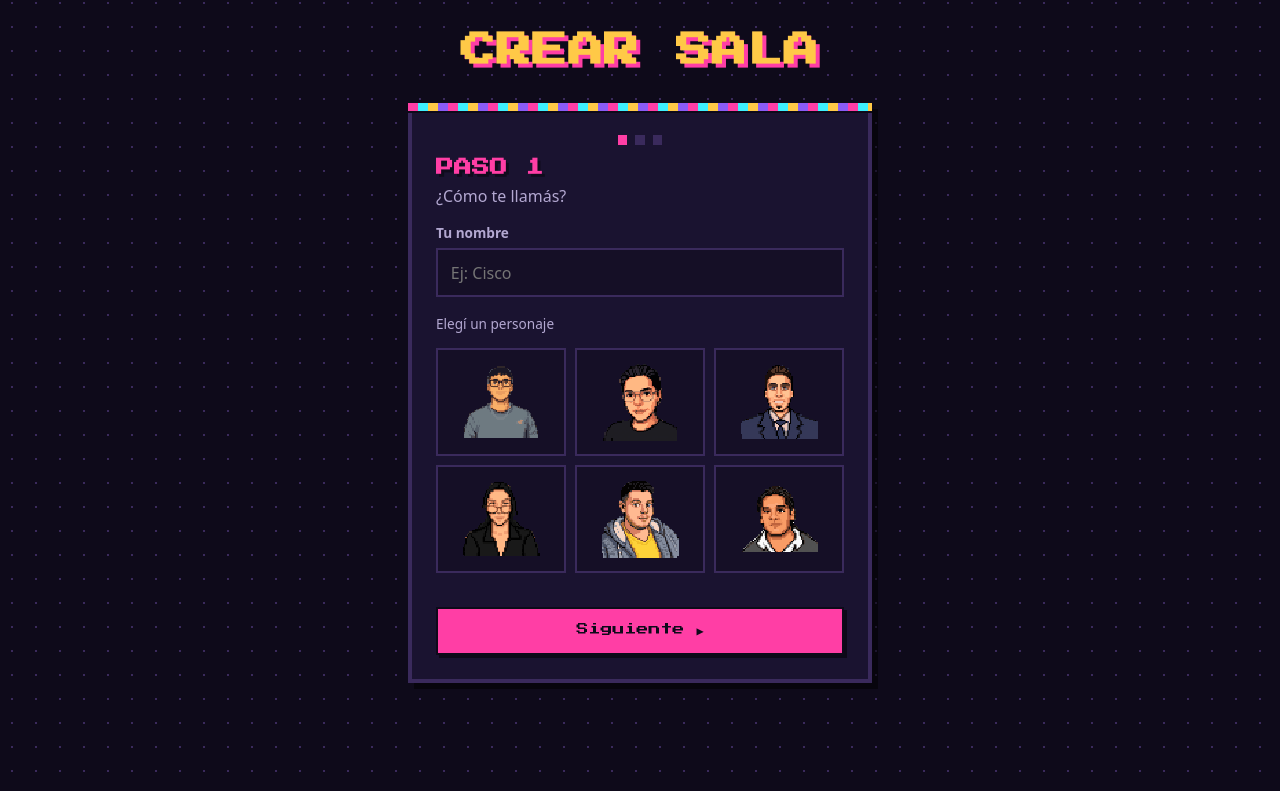
it: CreateRoomPage — formulario no envía vacío › mueve el slider y refleja el valor elegido en pantalla
In the field labelled "Tu nombre": (640, 273) [436,248,844,297], type "Cisco"
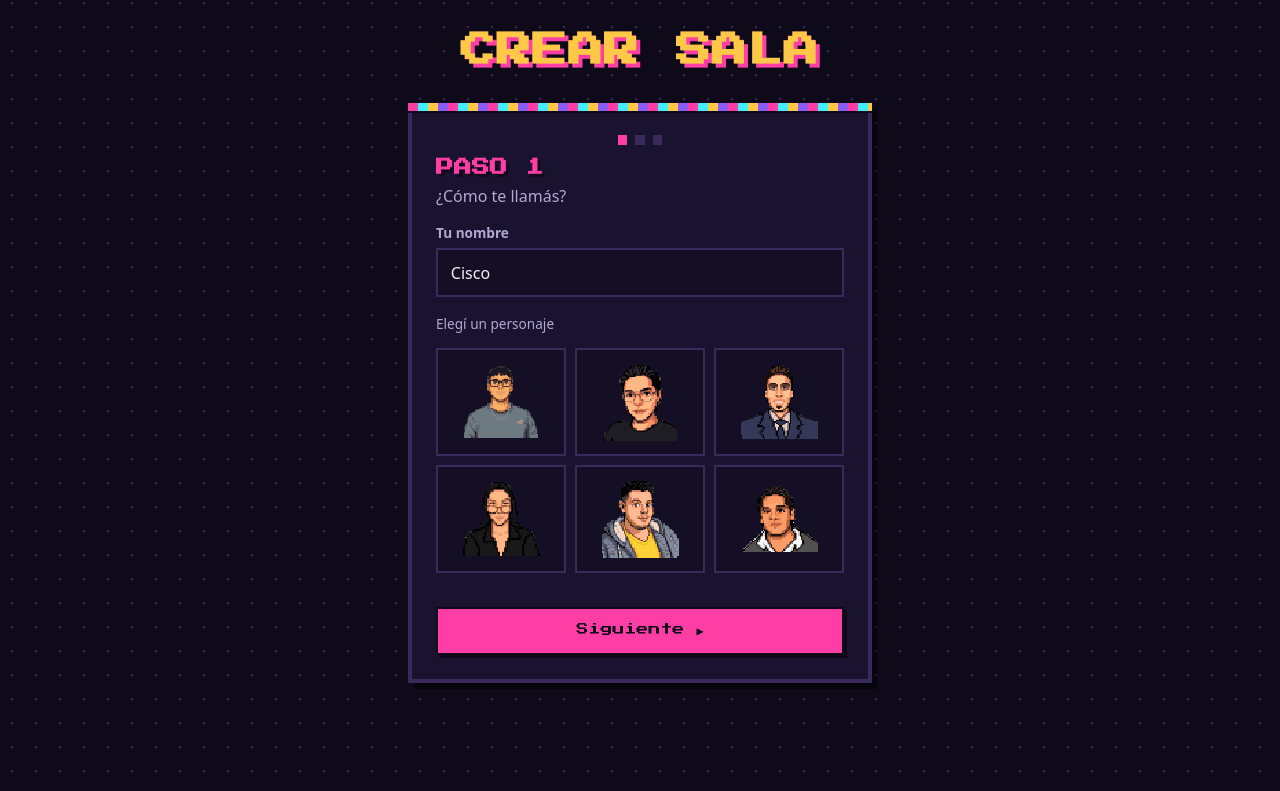
Click the button named "Cisco": (501, 402) [436,348,566,456]
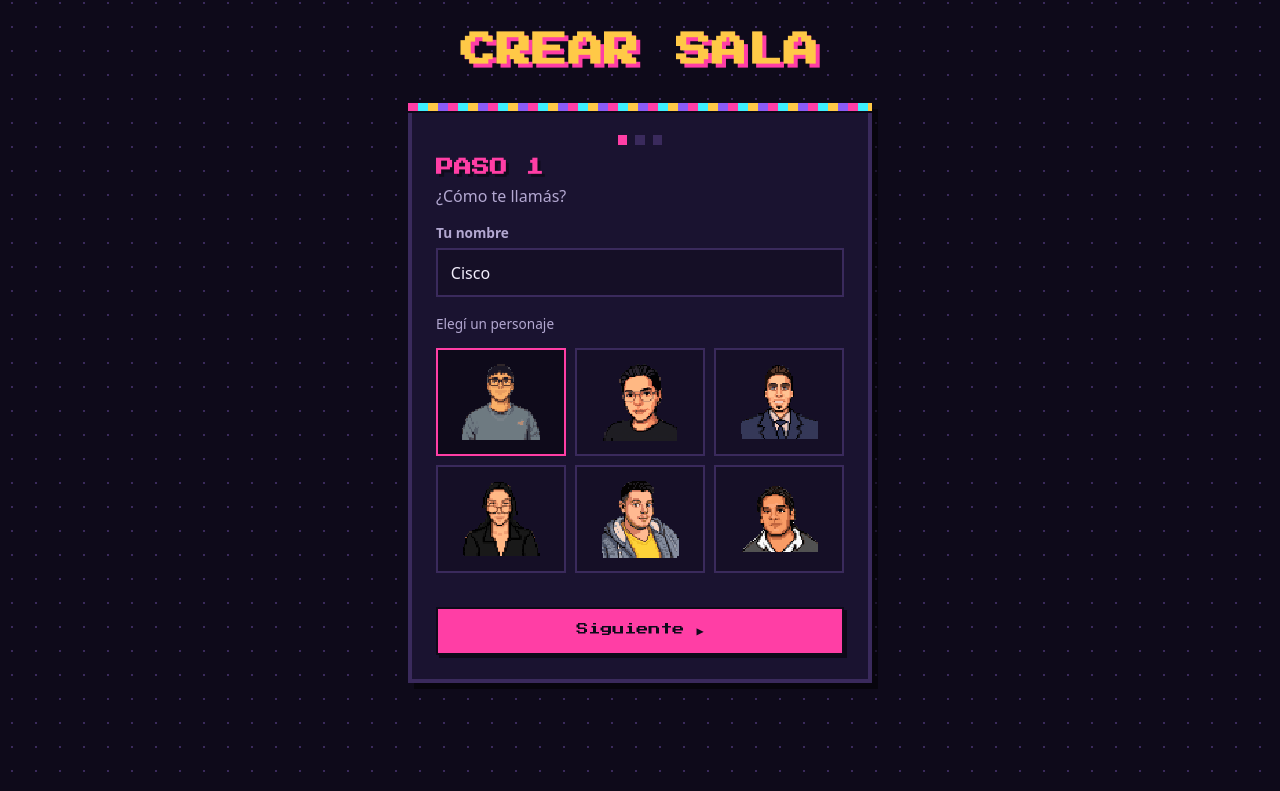
Click the button "Siguiente ▶": (640, 631) [436,607,844,655]
(page scrolled)
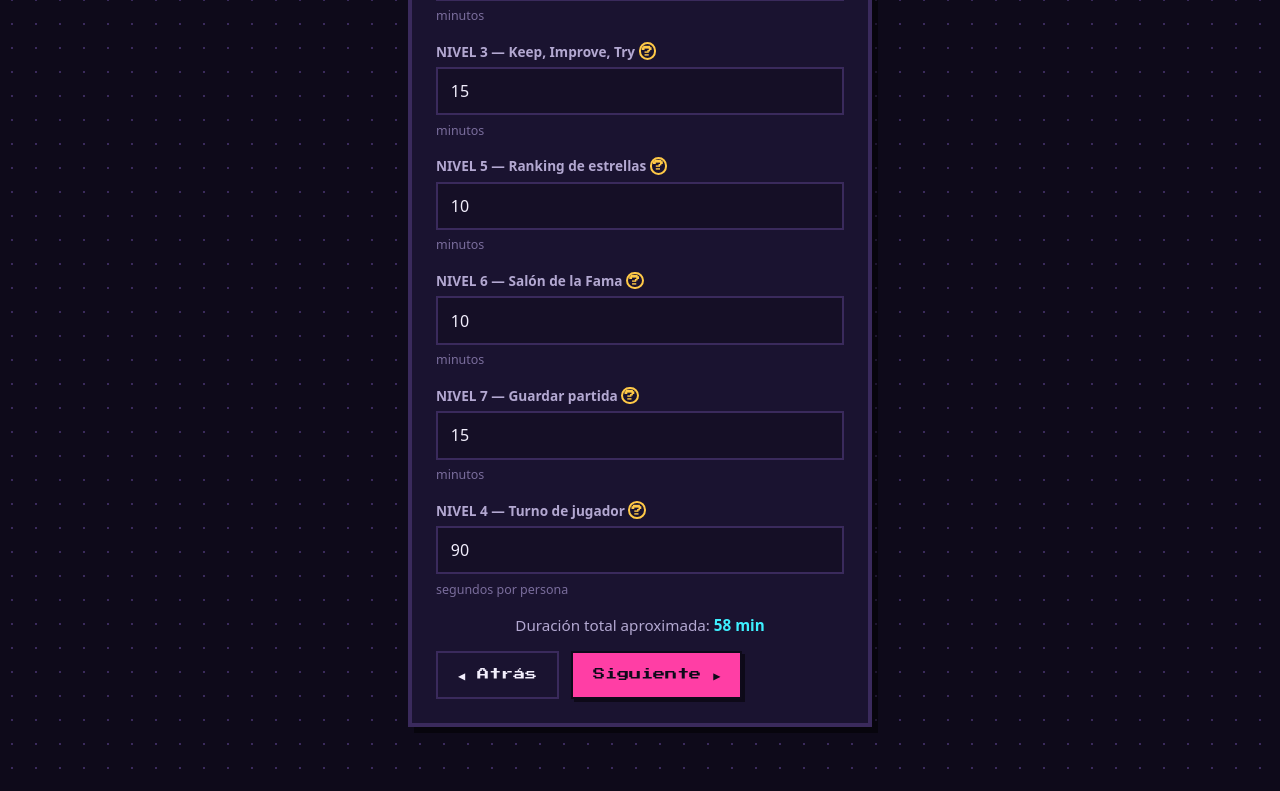
Click the button "Siguiente ▶": (657, 675) [571,651,742,699]
(page scrolled)
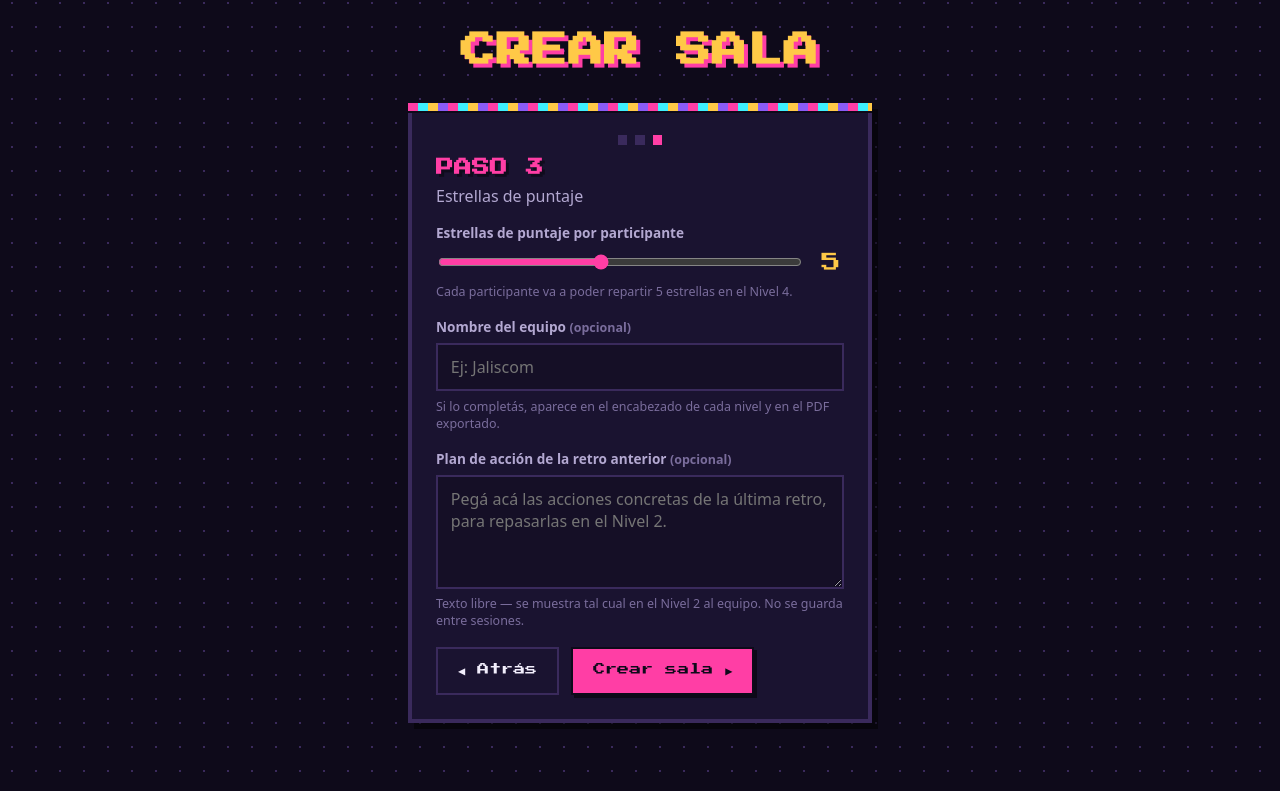
Set the slider to "7": (678, 262) [438,250,802,274]
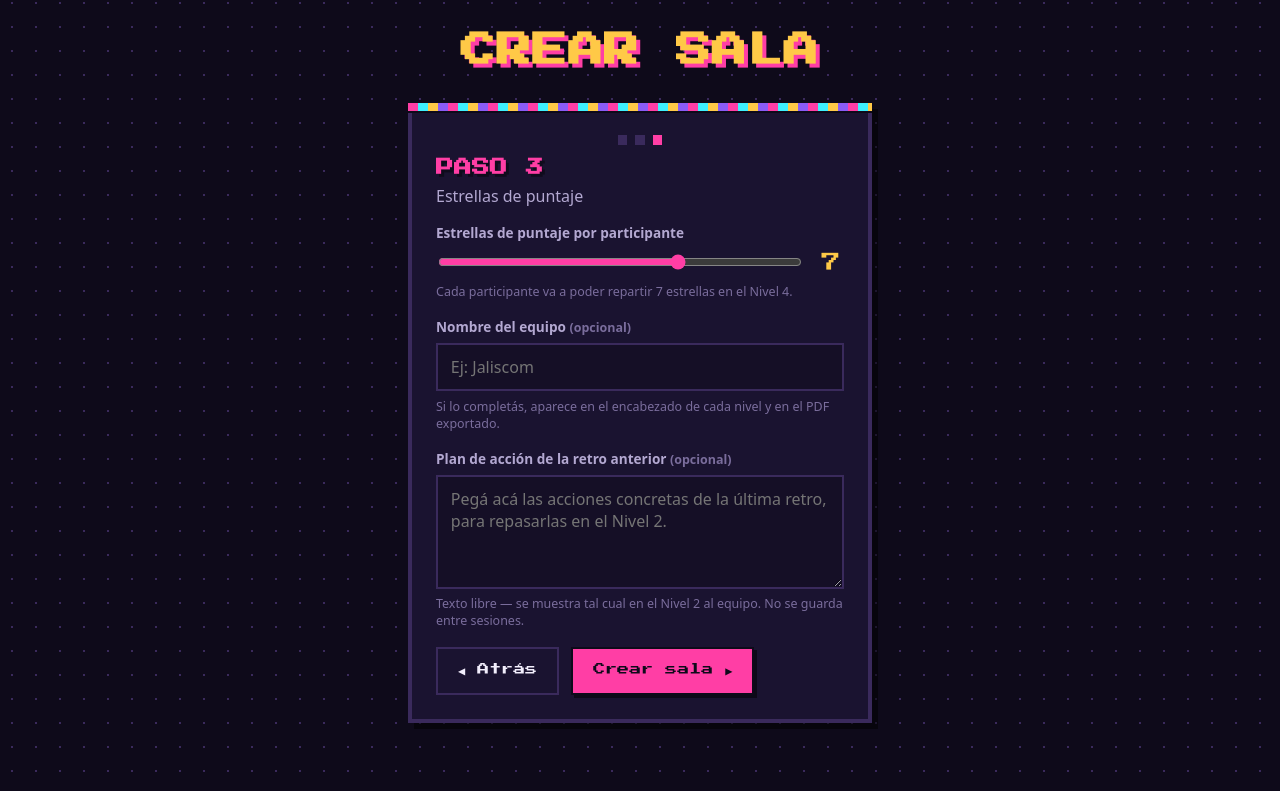
expect the text "7" is shown: met, box [822,253,841,272]
